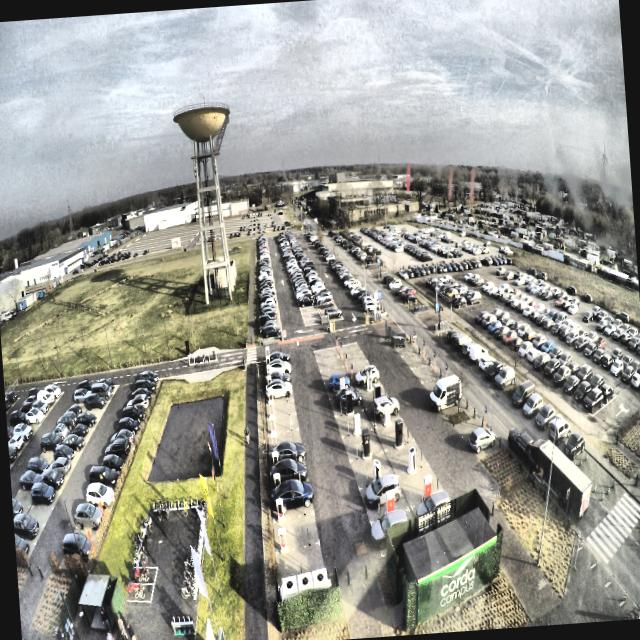cabinet: (282, 567, 327, 593)
car: (271, 479, 315, 513), (270, 459, 308, 486), (271, 440, 307, 465), (265, 379, 292, 400), (265, 357, 291, 374), (263, 370, 291, 384), (266, 350, 290, 363)
parking: (276, 541, 325, 588), (274, 512, 318, 553), (271, 486, 314, 521), (270, 465, 309, 495), (269, 445, 305, 474), (267, 428, 301, 452), (267, 413, 298, 436), (265, 384, 293, 405), (266, 399, 295, 418), (264, 372, 290, 391), (263, 354, 287, 369), (264, 363, 288, 376)
supercharger: (277, 528, 288, 552), (275, 499, 284, 521), (273, 472, 281, 489), (270, 433, 278, 450), (271, 451, 278, 468), (267, 387, 274, 402), (270, 417, 276, 434), (268, 401, 274, 416), (266, 376, 272, 387), (265, 346, 270, 356), (265, 356, 270, 366), (266, 365, 270, 374)
